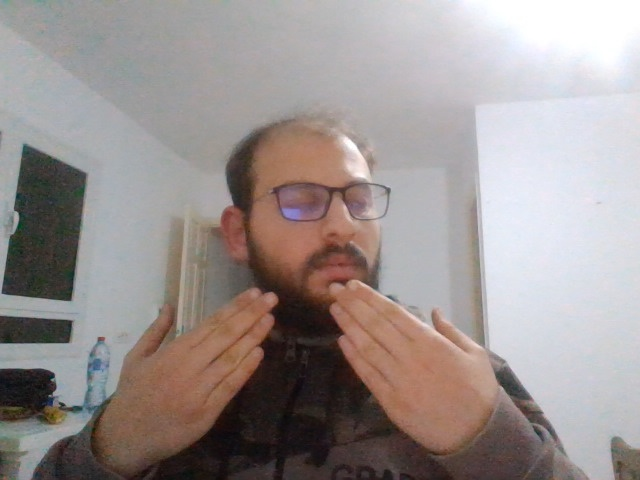Thank You: (126, 283, 489, 449)
